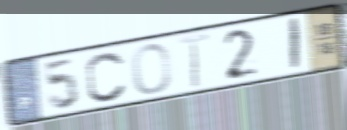2: (222, 26, 260, 81)
5: (41, 55, 81, 112)
C: (84, 50, 129, 104)
I: (289, 15, 302, 73)
O: (130, 42, 173, 97)
T: (176, 31, 211, 91)
